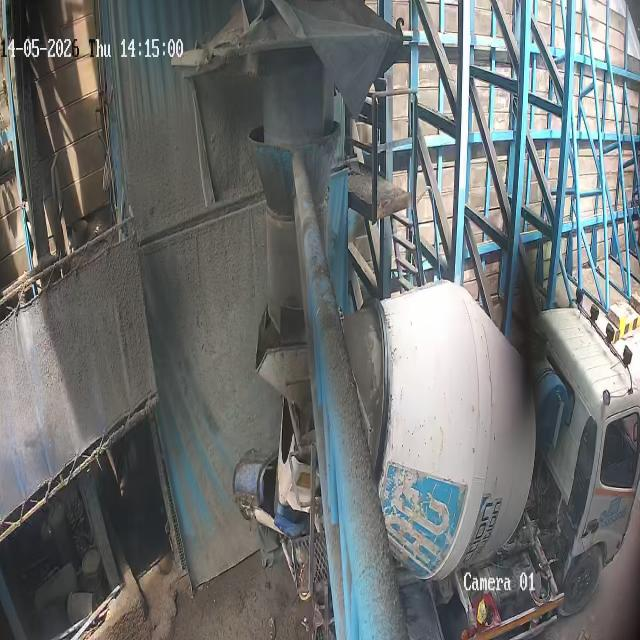cement_mixer_truck: (254, 282, 639, 639)
swing_chute: (250, 128, 337, 341)
